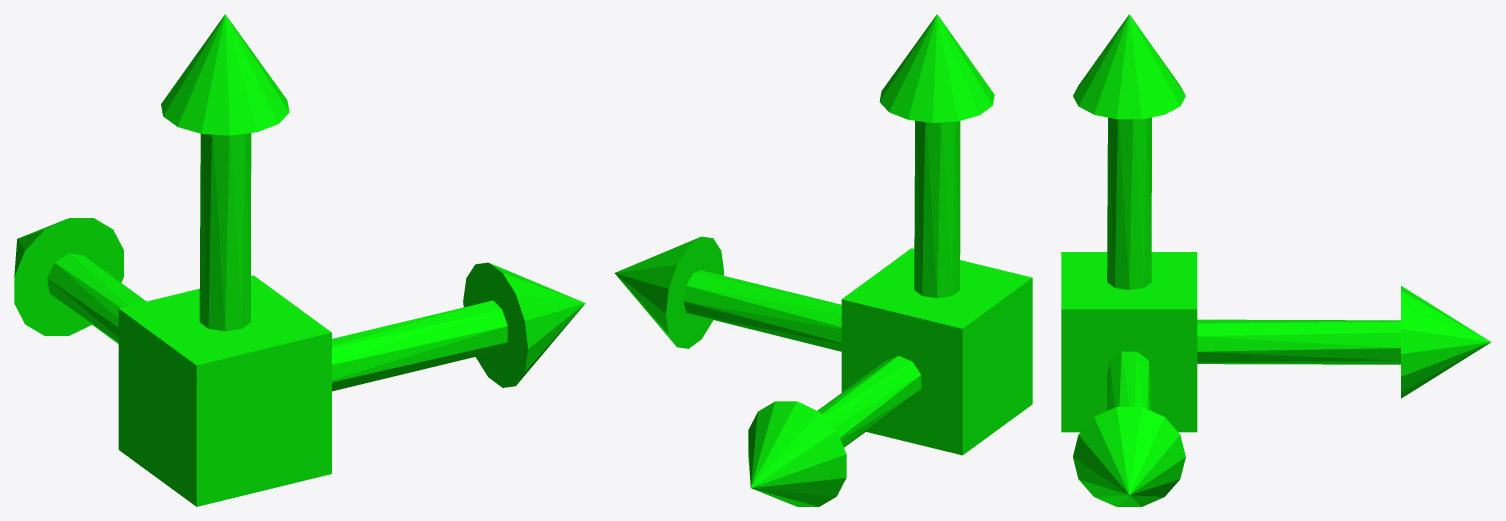
Rendered from ucs_icon.glb.
3 renders of one model, left to right at view 1: azimuth 30°, elevation 25°; view 2: azimuth 150°, elevation 25°; view 3: azimuth 270°, elevation 25°, orthographic. The views are drawn at different scales.
Parts seen in each view (by area): view 1: Mirror2 (×4); view 2: Mirror2 (×4); view 3: Mirror2 (×4).
Part boxes in pixels (x1,y1,x2,y2): Mirror2 (×4): (14,14,585,506); Mirror2 (×4): (614,14,1032,506); Mirror2 (×4): (1061,14,1490,506).
Bounding box in the file's own units: 121 × 121 × 121.
